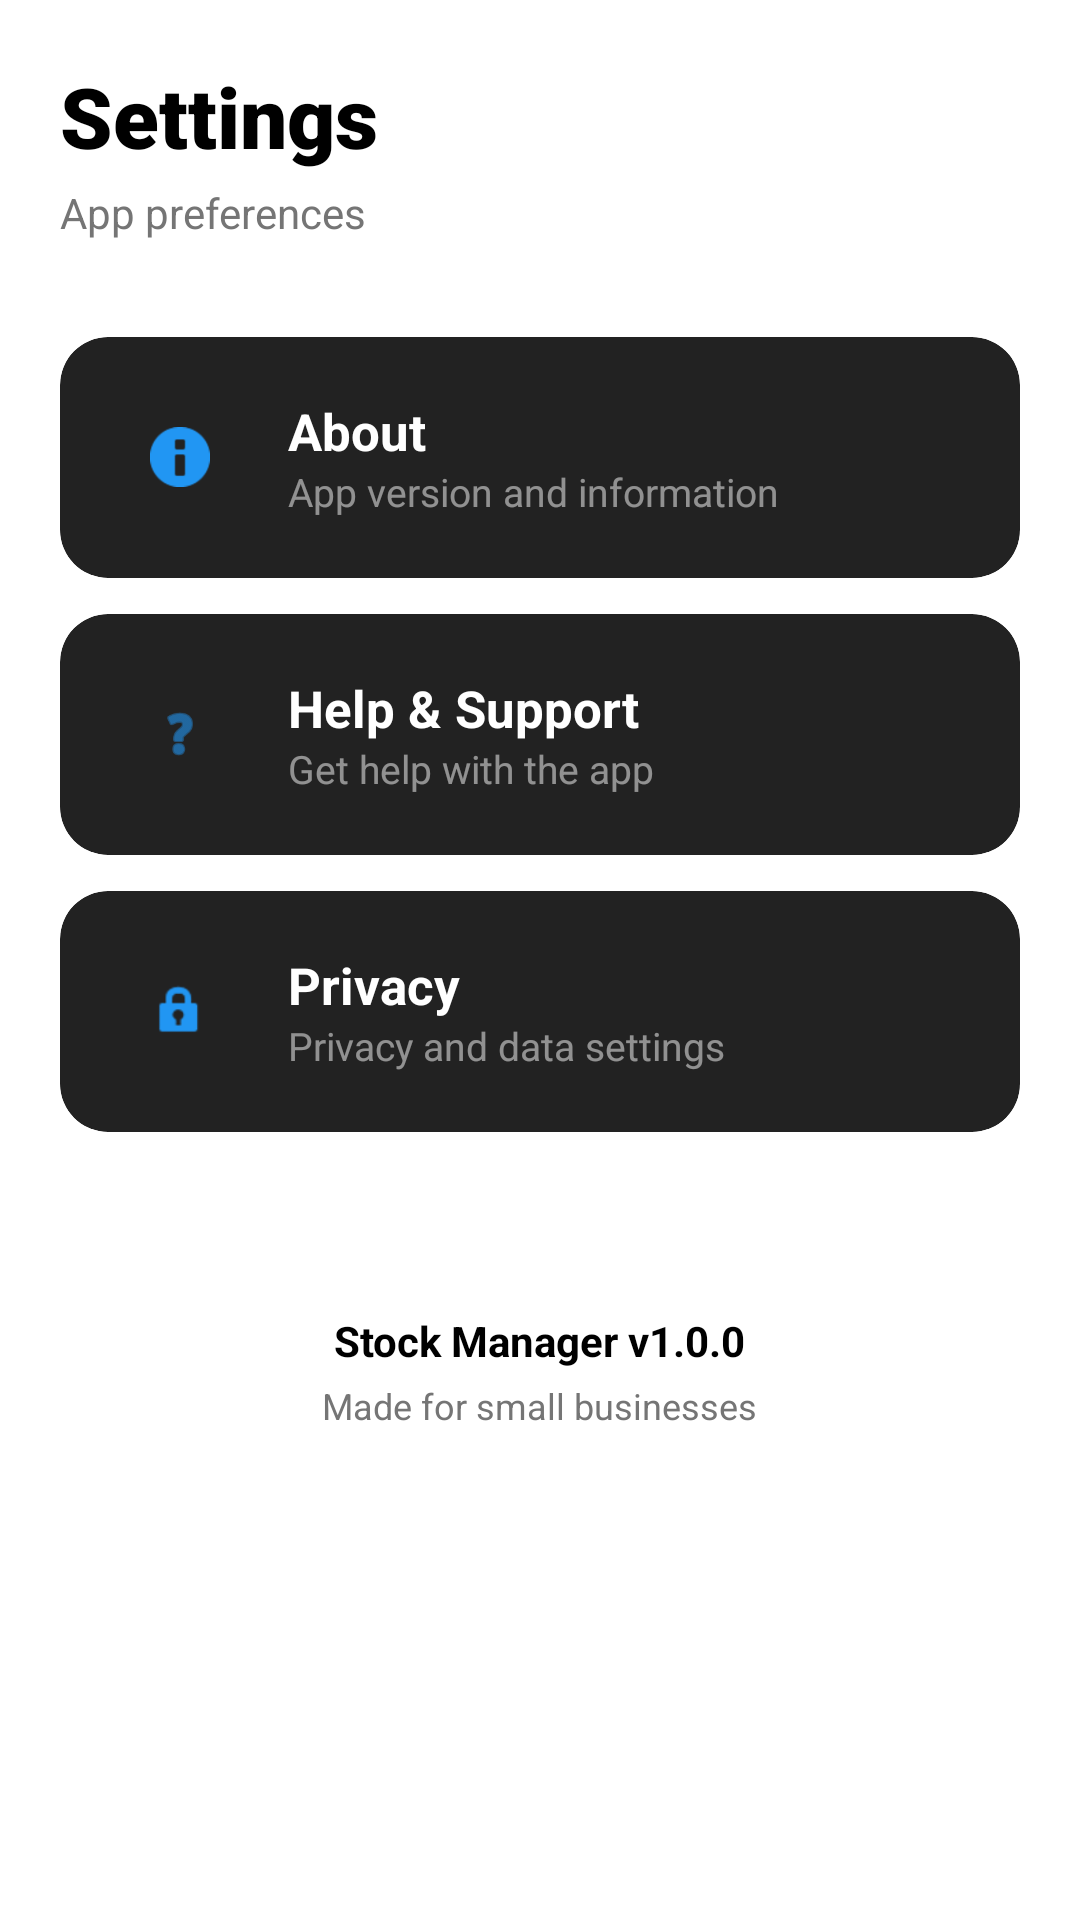

Named icons in this screenshot (1080w x 1920h) and their centers, (x=x, y=y):
lock idle: (x=178, y=1009)
